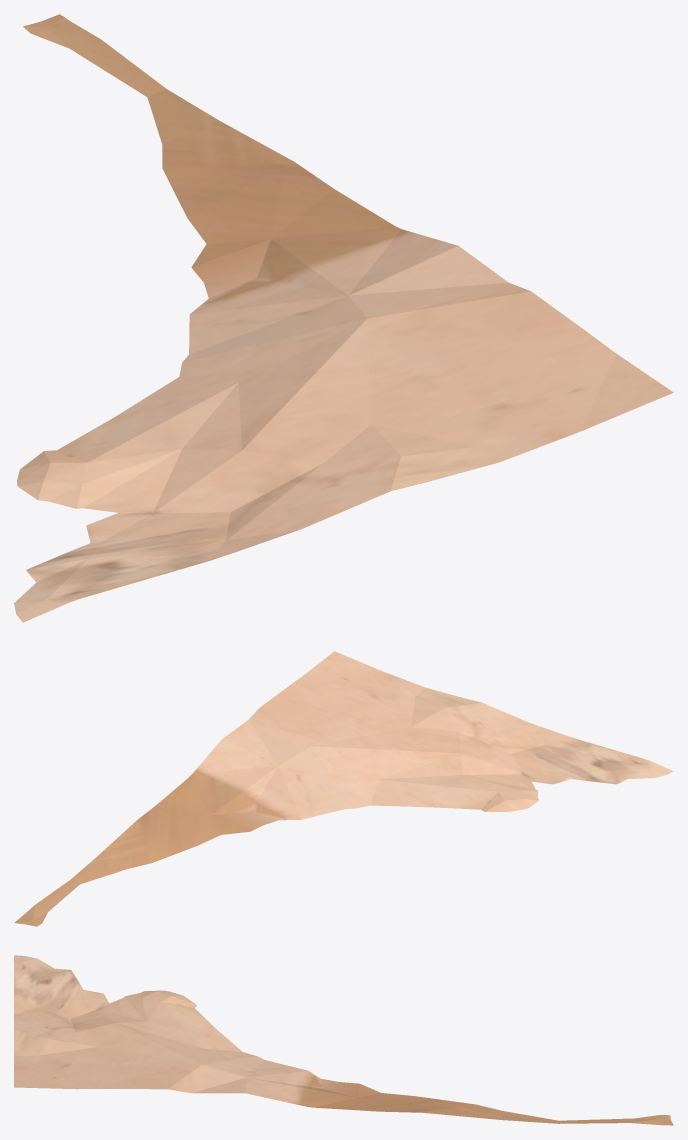
3 renders of one model, top to bottom at view 1: azimuth 30°, elevation 25°; view 2: azimuth 150°, elevation 25°; view 3: azimuth 270°, elevation 25°, orthographic. The views are drawn at different scales.
Size of the model in its own units: 1.07 by 0.1118 by 1.75.
Materials: 1 (1 with a texture image).
